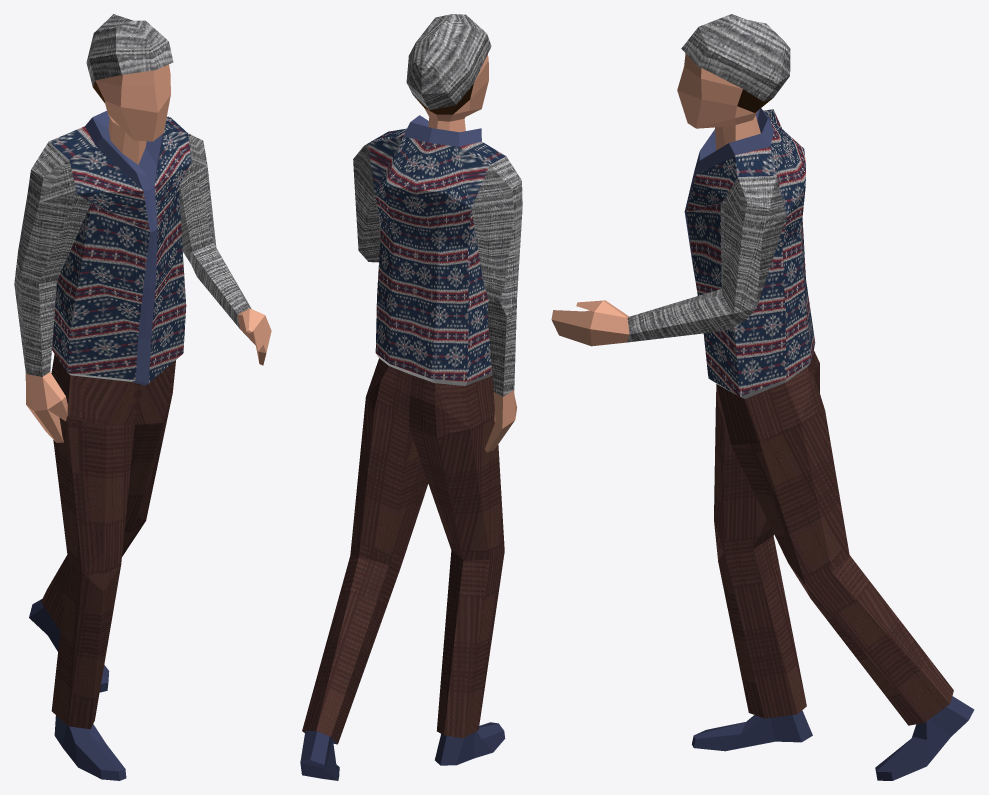
The model's file is AutumnManB.007.glb.
3 renders of one model, left to right at view 1: azimuth 30°, elevation 25°; view 2: azimuth 150°, elevation 25°; view 3: azimuth 270°, elevation 25°, orthographic. The views are drawn at different scales.
Visible parts, largest first — view 1: AutumnManB.007; view 2: AutumnManB.007; view 3: AutumnManB.007.
Boxes of the visible parts, x1,y1,x2,y2 form: AutumnManB.007: (14, 14, 271, 780); AutumnManB.007: (300, 14, 522, 780); AutumnManB.007: (551, 14, 974, 780).
Size of the model in its own units: 0.4413 by 1.77 by 0.9096.
1 material, 1 textured.
